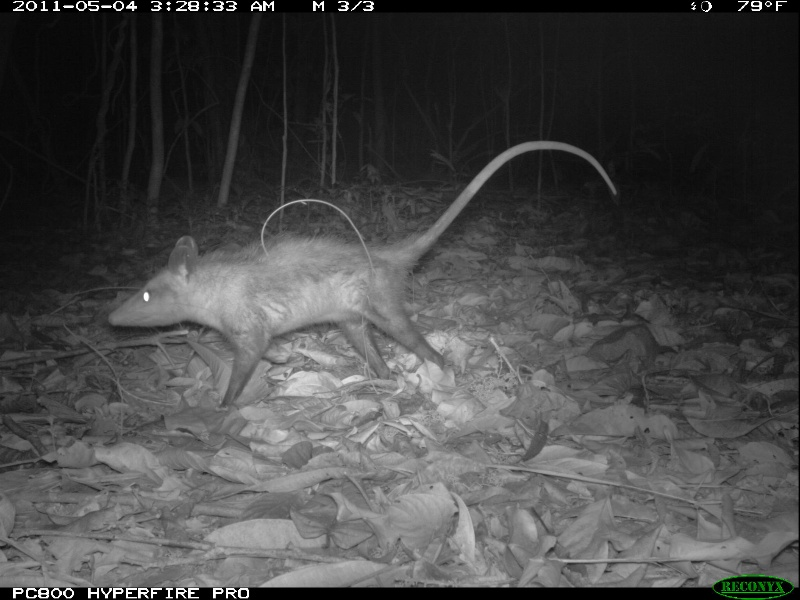opossum: (102, 139, 621, 411)
